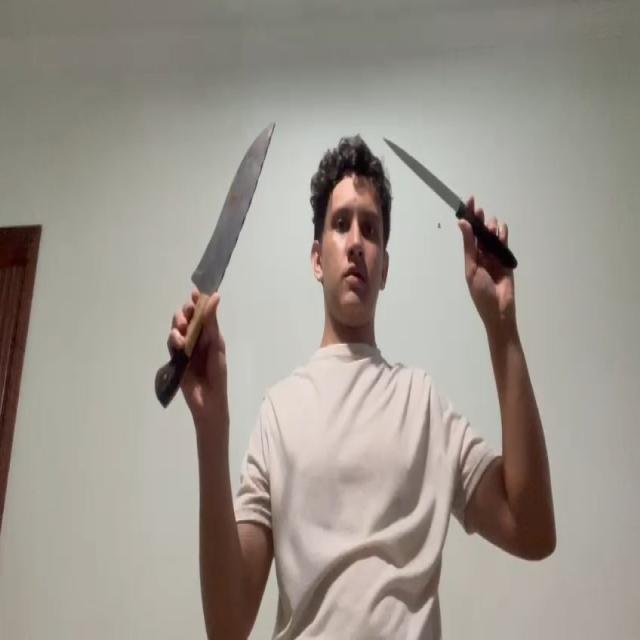knife: (190, 118, 278, 287), (384, 134, 462, 212)
